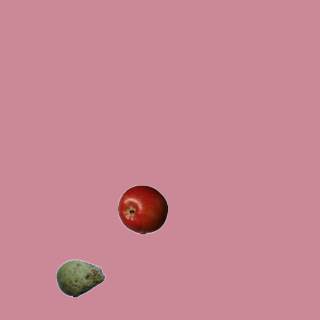Apple Braeburn: (117, 184, 167, 234)
Pear Stone: (55, 253, 105, 303)
